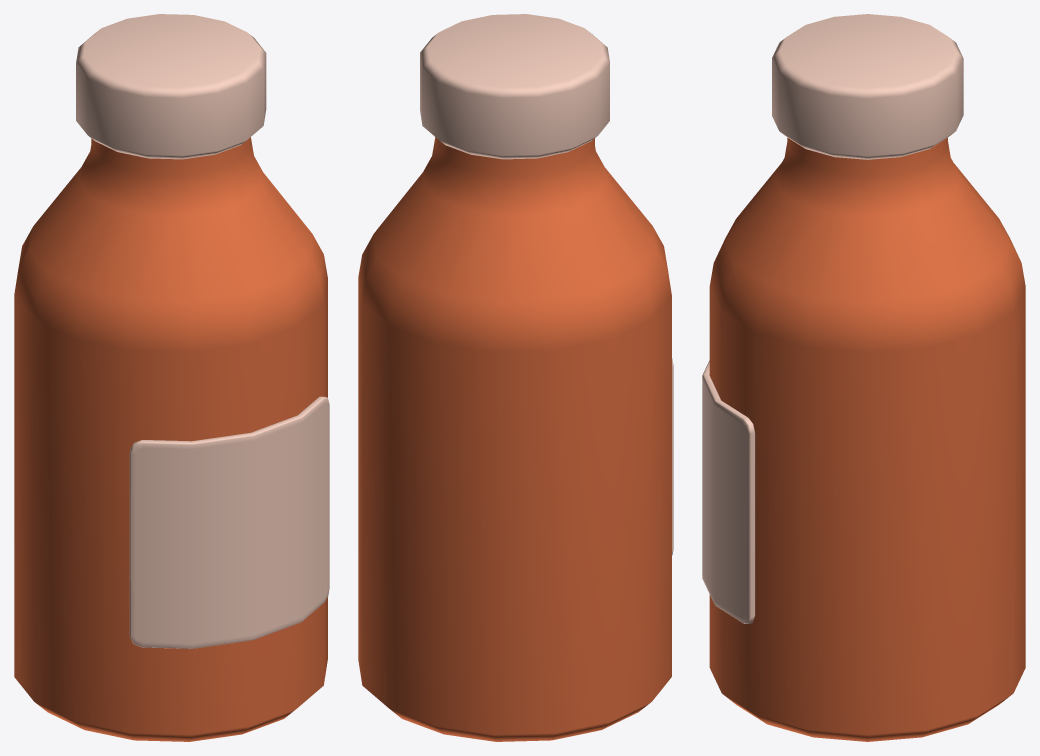
Rendered from Bottle_1.fbx.
3 views of the same model, side by side, from view 1: azimuth 30°, elevation 25°; view 2: azimuth 150°, elevation 25°; view 3: azimuth 270°, elevation 25° (orthographic).
Parts seen in each view (by area): view 1: Bottle_1; view 2: Bottle_1; view 3: Bottle_1.
Part boxes in pixels (bbox=[...]): Bottle_1: bbox=[14, 14, 329, 741]; Bottle_1: bbox=[358, 14, 673, 741]; Bottle_1: bbox=[702, 14, 1025, 741].
Bounding box in the file's own units: 13.05 × 28.76 × 13.36.
